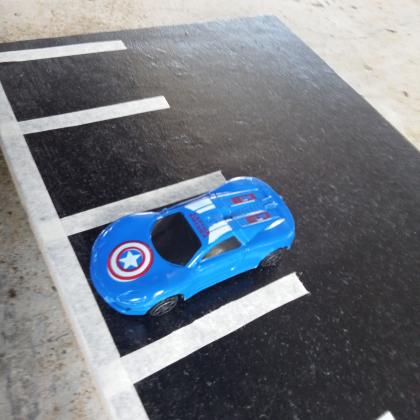Car: (90, 176, 294, 317)
